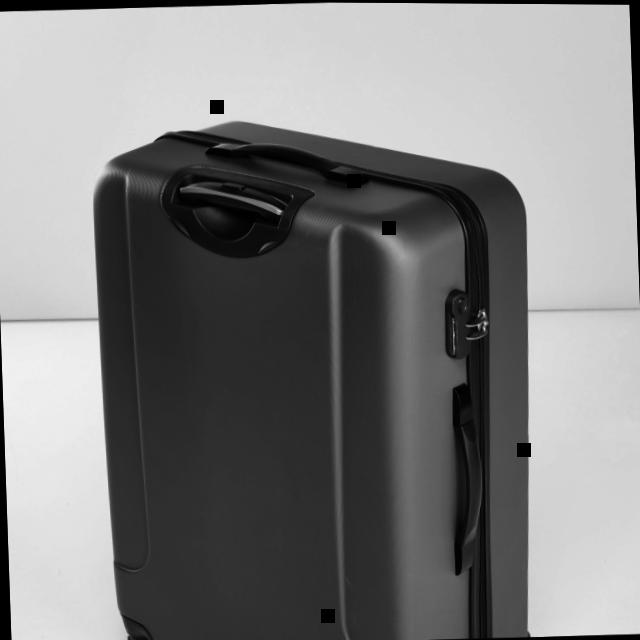luggage: (82, 95, 553, 640)
